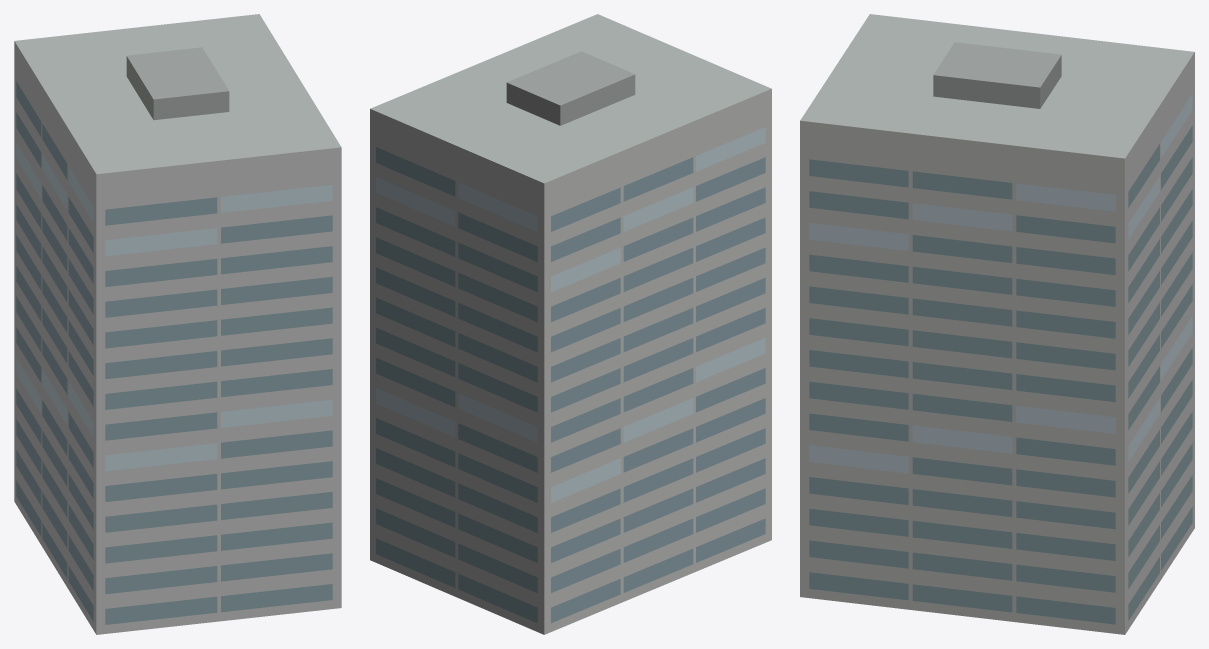
Rendered from fallback-olympic-park-foreon-417.glb.
3 renders of one model, left to right at view 1: azimuth 30°, elevation 25°; view 2: azimuth 150°, elevation 25°; view 3: azimuth 270°, elevation 25°, orthographic. The views are drawn at different scales.
Visible parts, largest first — view 1: fallback-olympic-park-foreon-417; view 2: fallback-olympic-park-foreon-417; view 3: fallback-olympic-park-foreon-417.
Part boxes in pixels (x1,y1,x2,y2): fallback-olympic-park-foreon-417: (14,14,341,634); fallback-olympic-park-foreon-417: (370,14,771,634); fallback-olympic-park-foreon-417: (800,14,1194,634).
Size of the model in its own units: 29.78 by 47.81 by 34.35.
